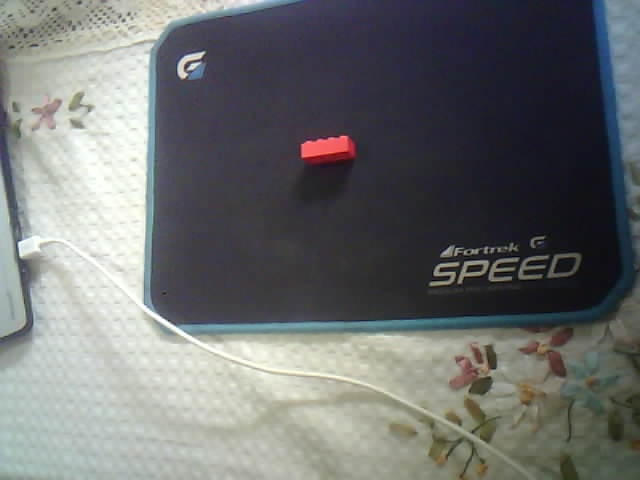lego: (299, 135, 356, 165)
